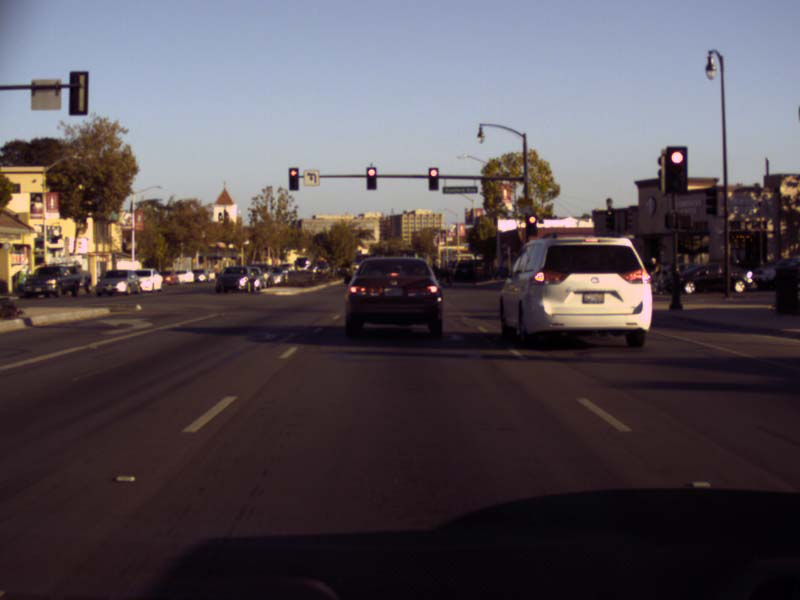Red: (667, 147, 686, 192), (288, 168, 299, 190), (365, 167, 376, 189), (427, 167, 437, 191), (527, 215, 535, 235)
